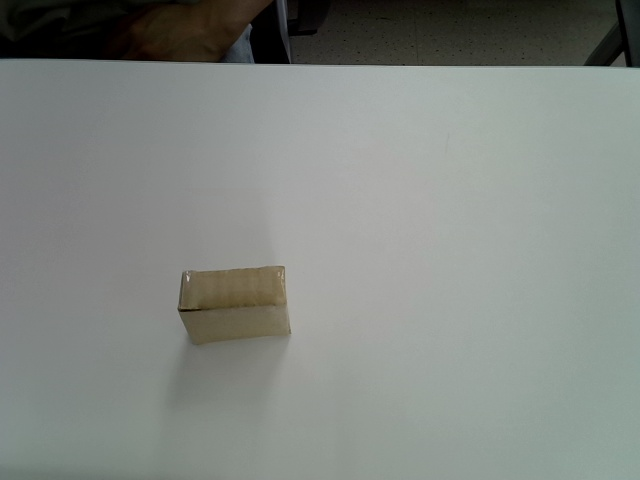normal: (177, 264, 293, 345)
